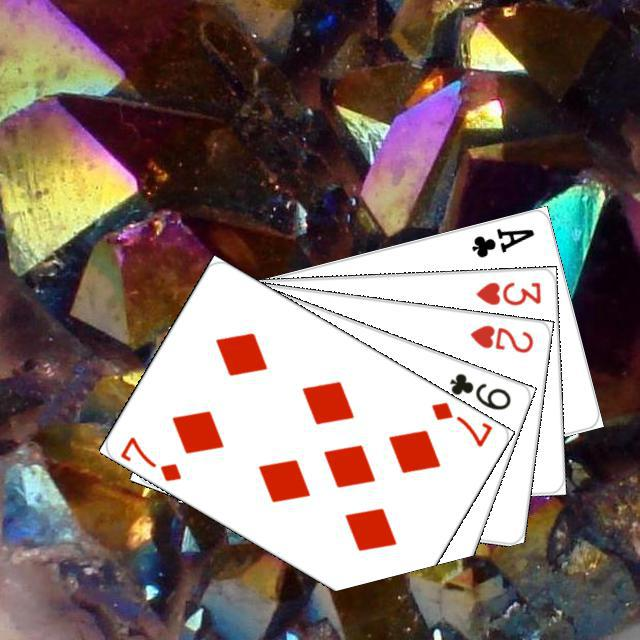2h: (465, 320, 535, 355)
3h: (471, 277, 543, 307)
7d: (426, 396, 493, 449), (116, 431, 183, 484)
9c: (444, 368, 513, 412)
Ac: (466, 223, 536, 260)
